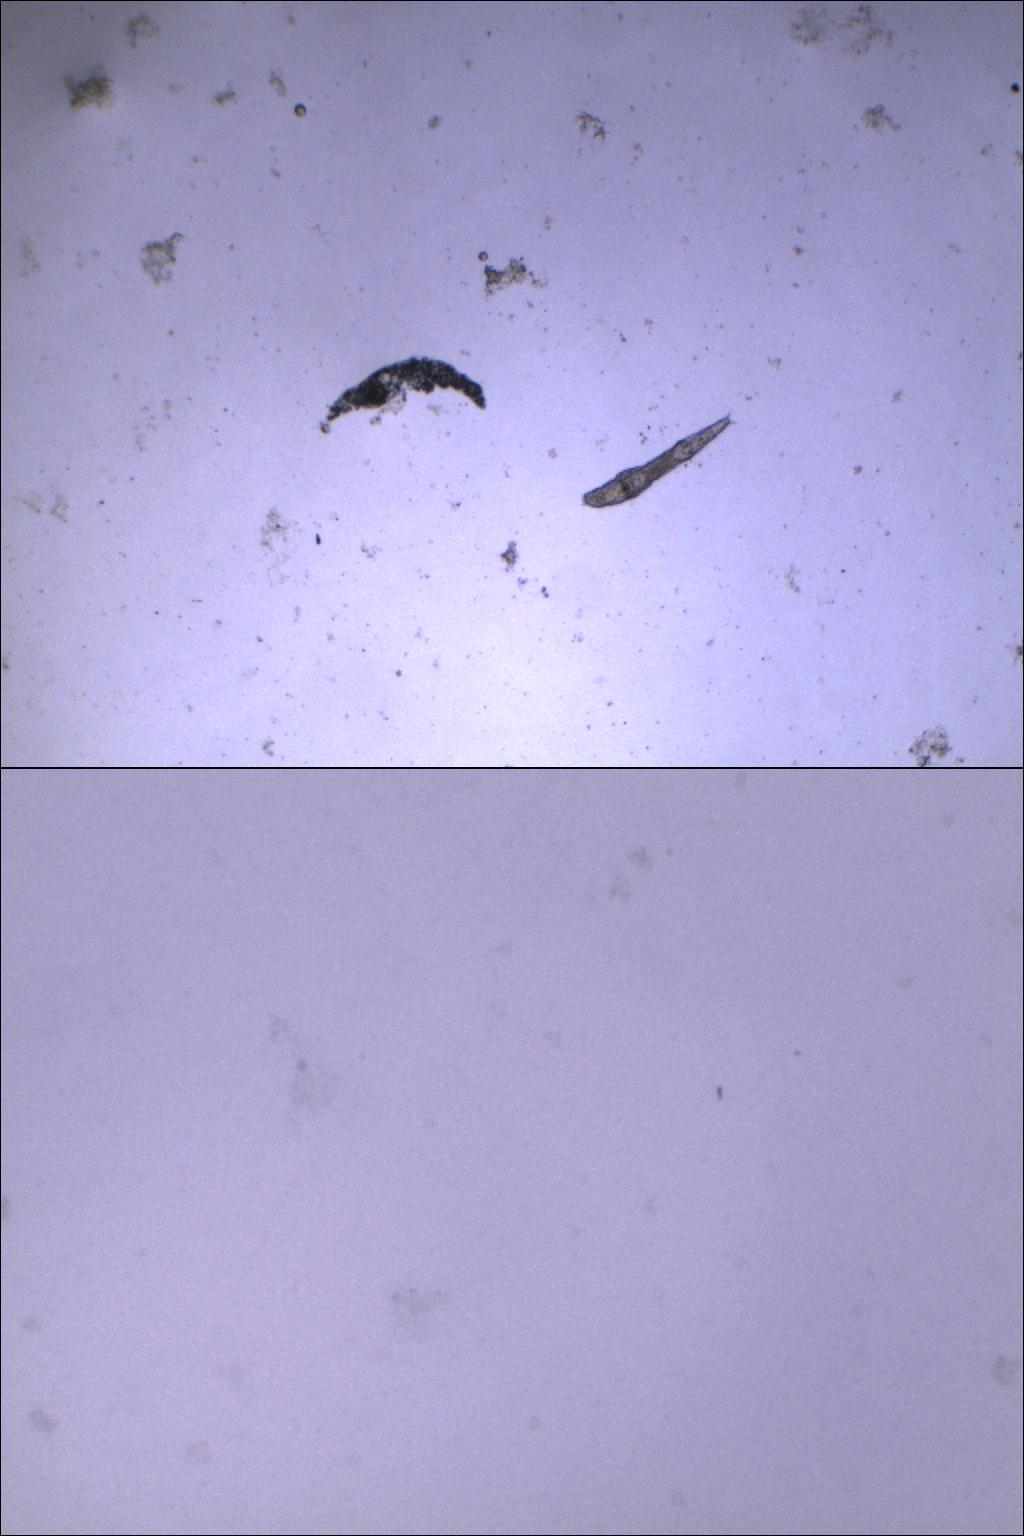N.Fowleri Amoeba: (243, 993, 371, 1152)
Proteus Amoeba: (312, 342, 499, 454)
